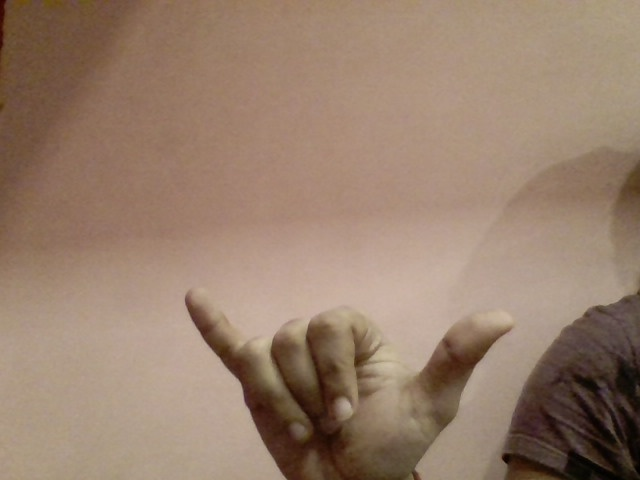y: (169, 275, 531, 480)
